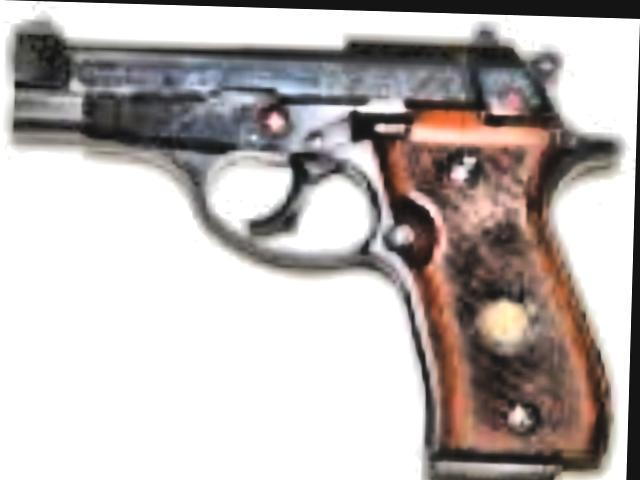pistol: (0, 0, 624, 480)
